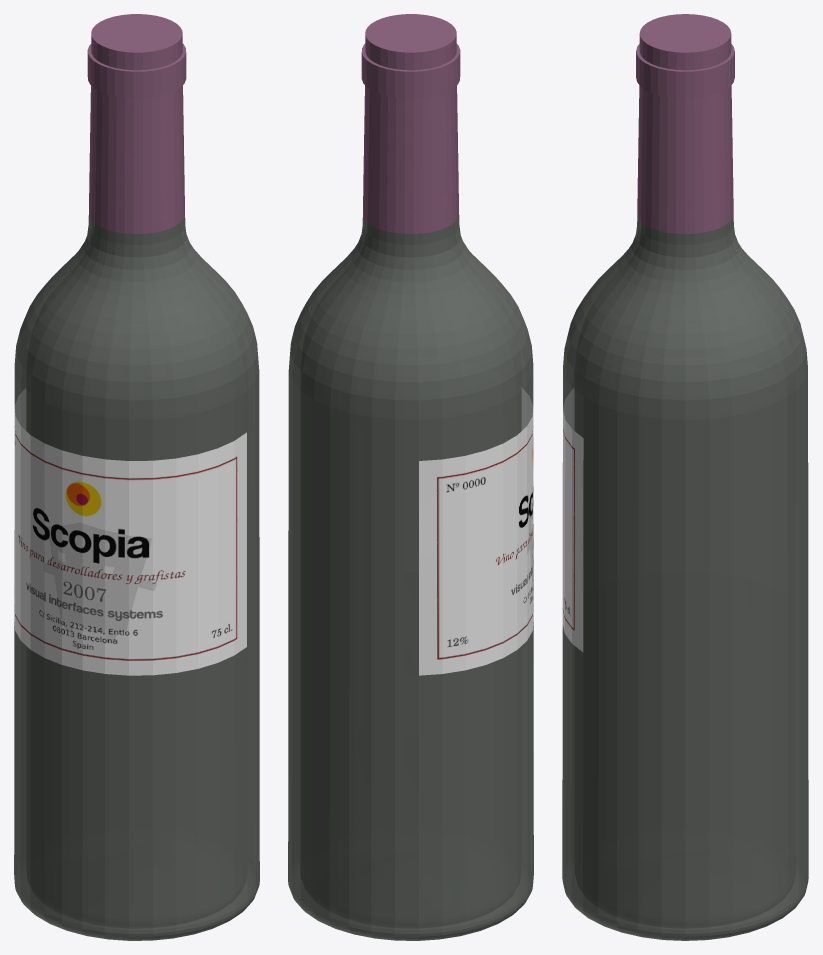
File: sweethome3d-scopia-wine-bottle.glb
3 views of the same model, side by side, from view 1: azimuth 30°, elevation 25°; view 2: azimuth 150°, elevation 25°; view 3: azimuth 270°, elevation 25° (orthographic).
Parts seen in each view (by area): view 1: bottle_Mesh, logo_bottle_Mesh.001, tap_Mesh.002; view 2: bottle_Mesh, logo_bottle_Mesh.001, tap_Mesh.002; view 3: bottle_Mesh, tap_Mesh.002, logo_bottle_Mesh.001.
Boxes of the visible parts, x1,y1,x2,y2 form: bottle_Mesh: [14, 215, 259, 940]; logo_bottle_Mesh.001: [14, 409, 246, 675]; tap_Mesh.002: [87, 14, 186, 233]; bottle_Mesh: [288, 215, 533, 940]; logo_bottle_Mesh.001: [419, 409, 533, 675]; tap_Mesh.002: [361, 14, 460, 233]; bottle_Mesh: [562, 215, 808, 940]; tap_Mesh.002: [636, 14, 734, 233]; logo_bottle_Mesh.001: [562, 411, 583, 652].
Size of the model in its own units: 0.7576 by 2.93 by 0.7576.
Materials: 3 (1 with a texture image).
